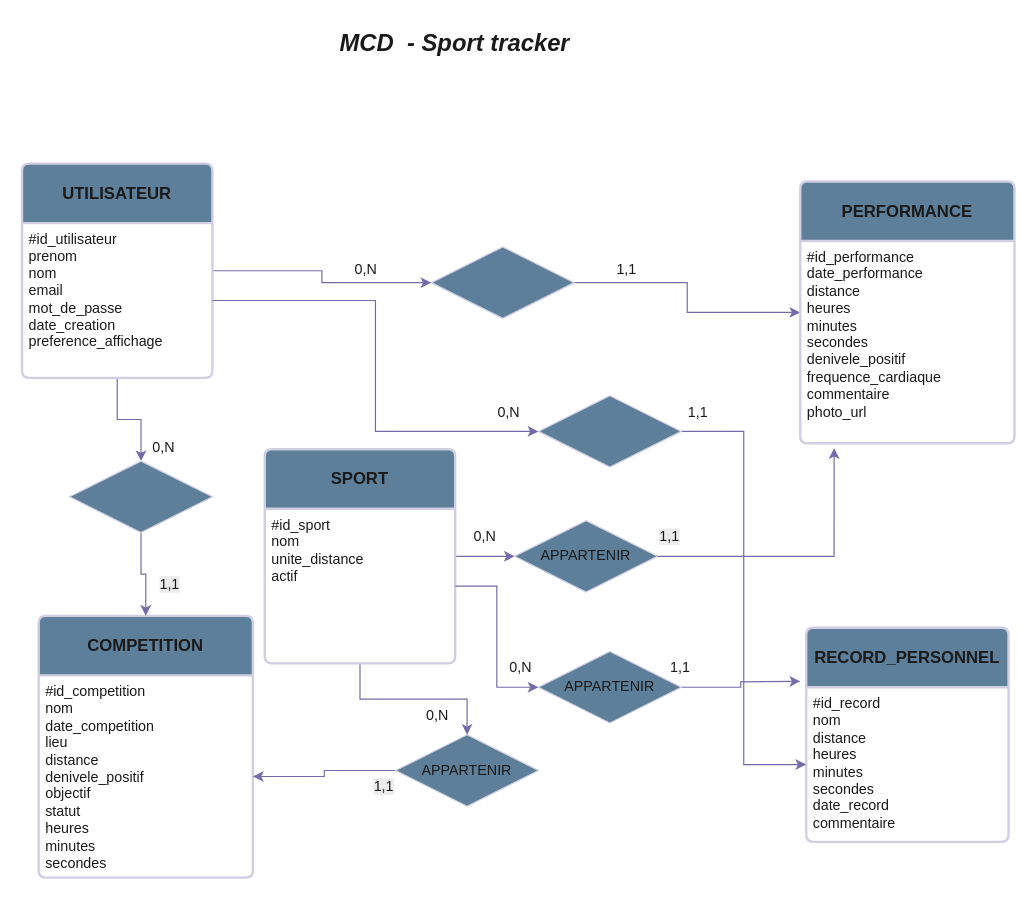
The diagram is 1035 pixels wide and 898 high, and some of its shapes have lost their labels. Here are the shapes that lost their labels. From the top down, the centre of each, then its label:
At point (502, 282): "ENREGISTRER".
At point (609, 430): "DETENIR".
At point (140, 496): "PLANIFIER".
